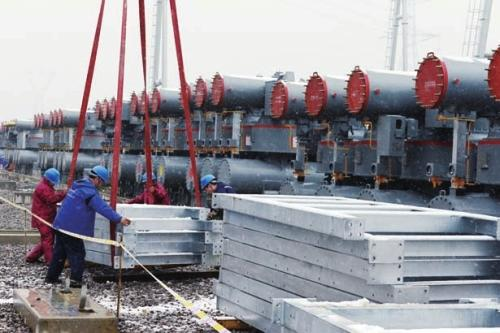boots: (44, 276, 62, 284), (68, 278, 82, 287)
hard-hat: (89, 165, 109, 183), (43, 167, 60, 184)
person: (44, 165, 131, 287), (25, 166, 69, 265)
ppe-suit: (44, 177, 123, 284), (25, 179, 68, 265)
